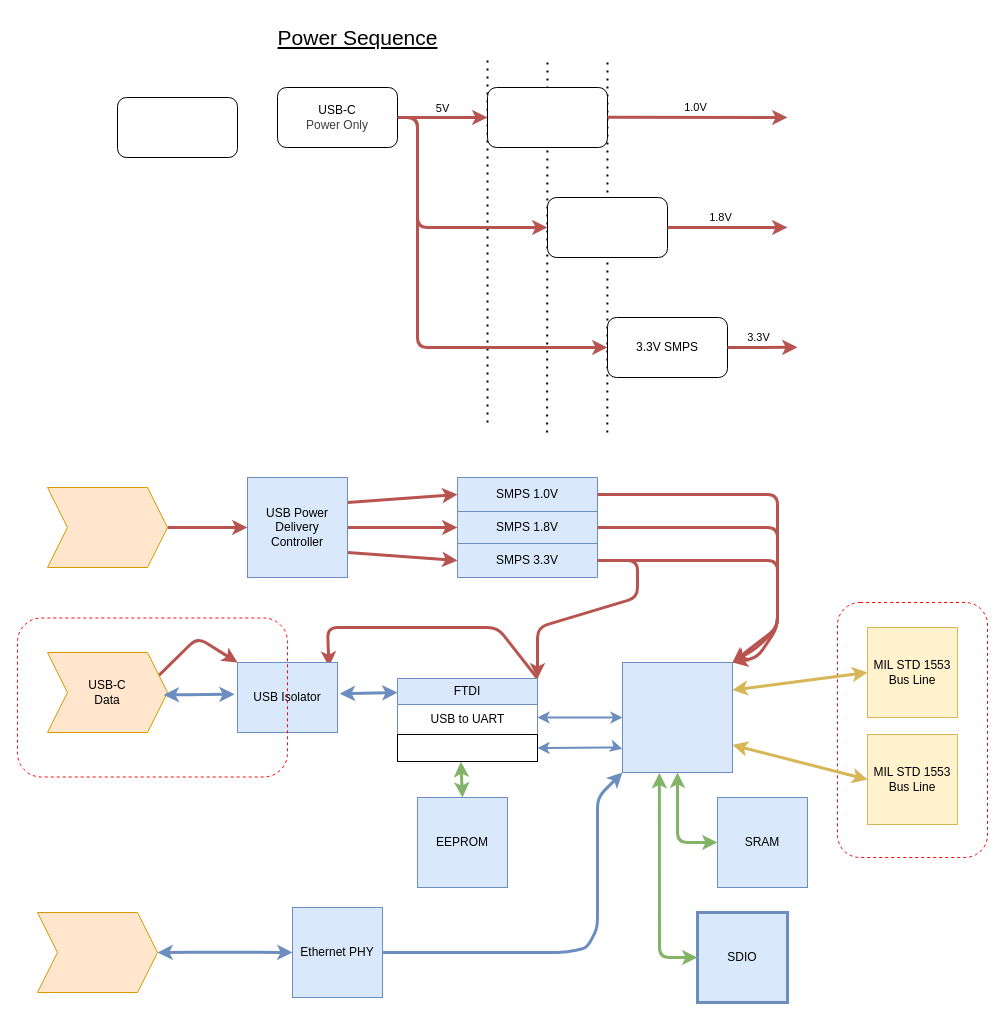
Some shapes in this 1005 by 1021 pixel diagram are drawn without their labels. Here are the shapes that lost their labels. From the top down, the centre of each, then its label:
[547,117]: 1.0V SMPS
[607,227]: 1.8V SMPS
[107,527]: USB-C Power
[677,717]: Artix 7
[467,748]: USB to JTAG
[97,952]: Ethernet Jack
